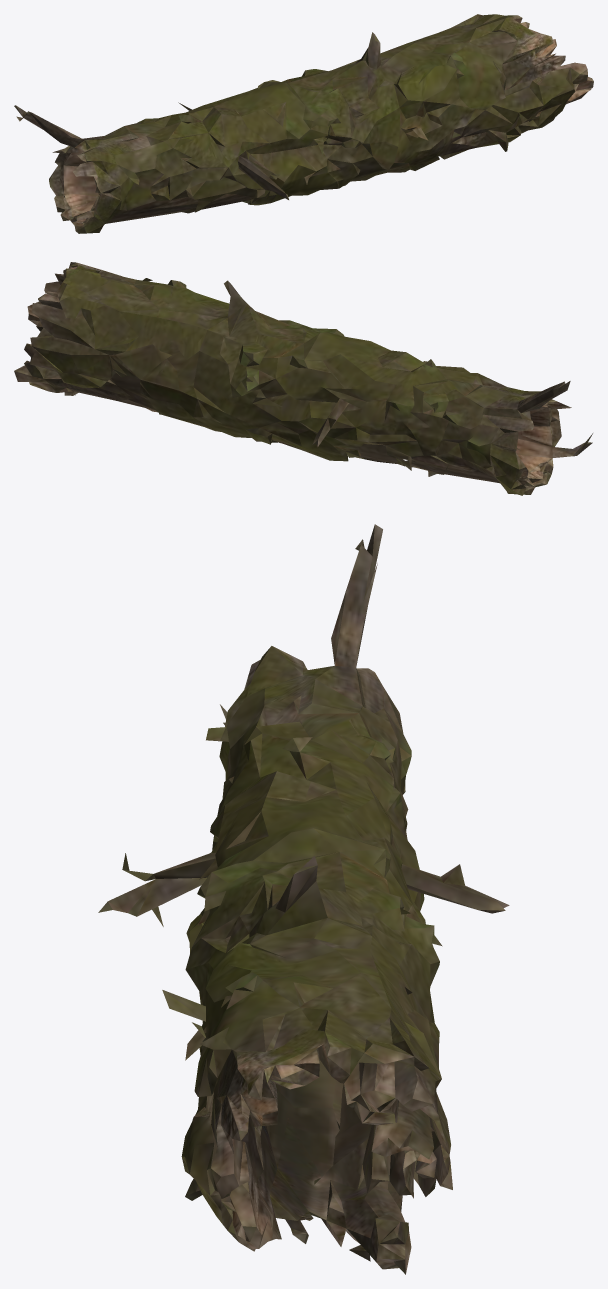
The model's file is p_log.glb.
3 views of the same model, one above another, from view 1: azimuth 30°, elevation 25°; view 2: azimuth 150°, elevation 25°; view 3: azimuth 270°, elevation 25° (orthographic). The views are drawn at different scales.
Visible parts, largest first — view 1: output_unwrapped; view 2: output_unwrapped; view 3: output_unwrapped.
Part boxes in pixels (x1,y1,x2,y2): output_unwrapped: [14, 14, 593, 233]; output_unwrapped: [14, 262, 592, 495]; output_unwrapped: [98, 524, 509, 1274].
Size of the model in its own units: 1.9 by 0.4591 by 0.6164.
1 material, 1 textured.
